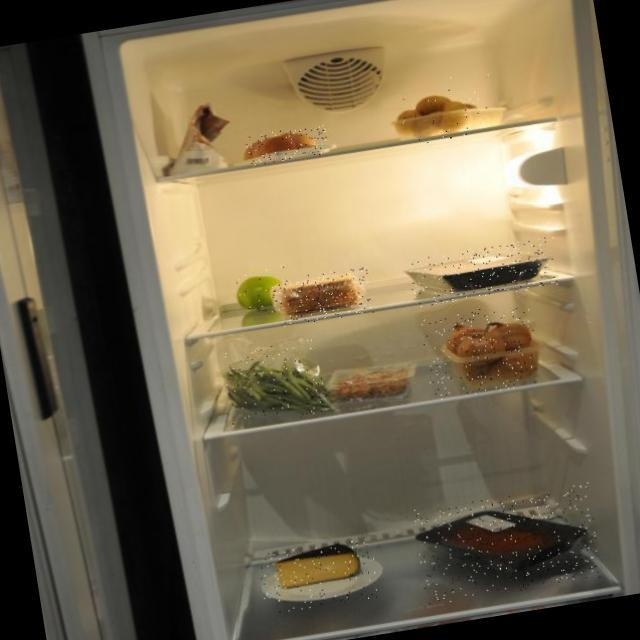Cebolla: (420, 301, 542, 401)
Huevos: (245, 124, 329, 166)
Manzana: (234, 266, 294, 318)
Patata: (392, 71, 498, 148)
Queso: (258, 538, 380, 615)
bread: (272, 266, 374, 328)
green beans: (222, 339, 328, 427)
meat: (413, 483, 604, 606), (407, 236, 561, 309)
